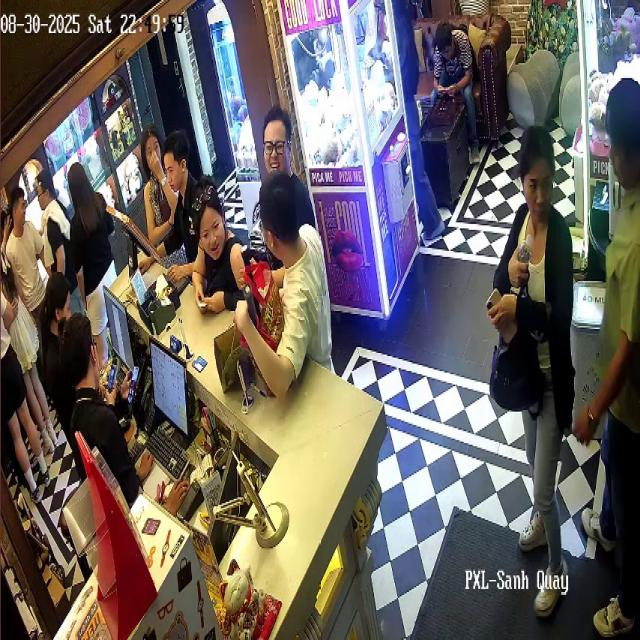khach: (512, 117, 581, 602), (259, 173, 347, 378), (601, 88, 633, 640), (64, 152, 119, 329), (1, 321, 48, 497), (202, 194, 254, 313), (252, 108, 300, 194), (9, 193, 39, 289), (40, 177, 71, 245), (141, 135, 168, 210)
nhan vien: (59, 321, 120, 494), (161, 147, 199, 245), (41, 283, 70, 373)
